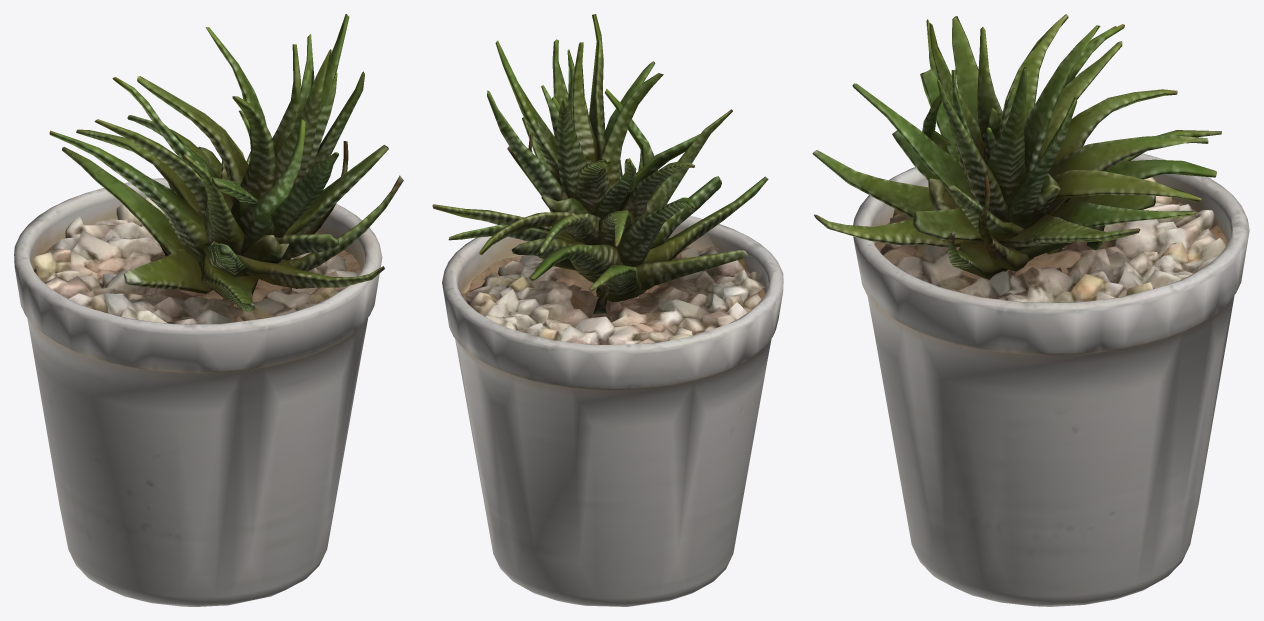
The model's file is pottedPlant.glb.
The picture shows the model from 3 angles, left to right: view 1: azimuth 30°, elevation 25°; view 2: azimuth 150°, elevation 25°; view 3: azimuth 270°, elevation 25°; orthographic projection. The views are drawn at different scales.
Visible parts, largest first — view 1: potted_plant_04_ground; view 2: potted_plant_04_ground; view 3: potted_plant_04_ground.
Boxes of the visible parts, box(x1,y1,x2,y2) form: potted_plant_04_ground: box(14, 14, 403, 606); potted_plant_04_ground: box(432, 14, 783, 606); potted_plant_04_ground: box(812, 14, 1249, 606).
Size of the model in its own units: 0.1674 by 0.2672 by 0.1848.
1 material, 1 textured.
